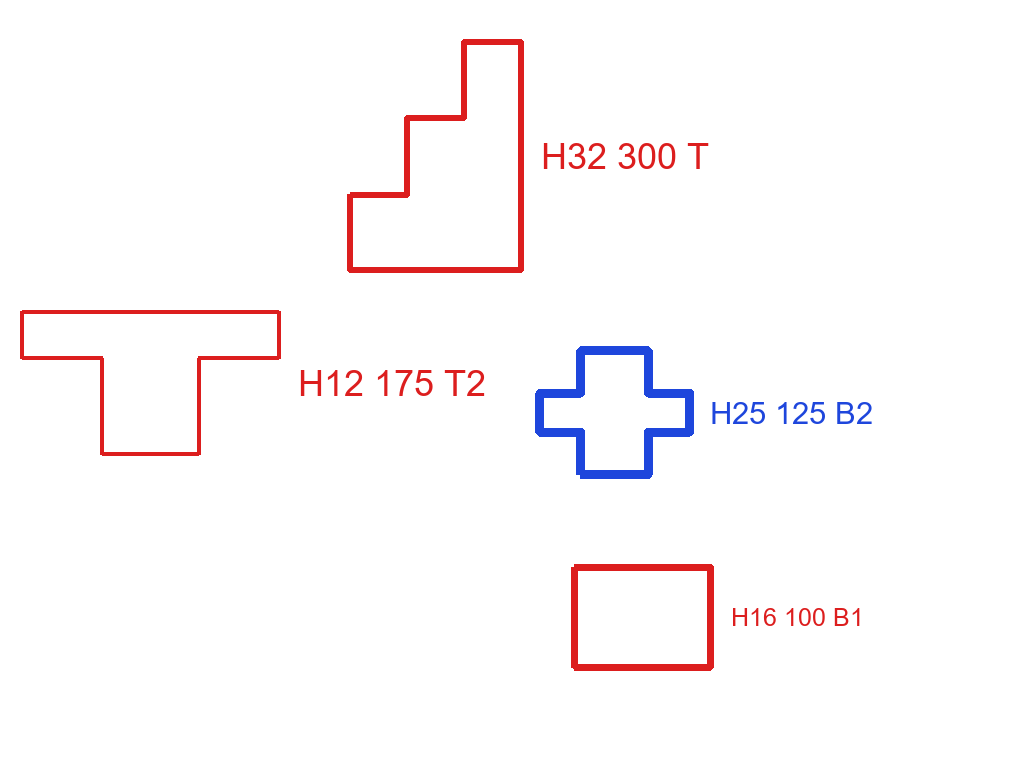shape: (346, 36, 526, 276), (18, 307, 282, 459), (533, 344, 696, 481), (569, 562, 716, 673)
text: (296, 368, 488, 398), (539, 141, 711, 171), (708, 400, 875, 426), (729, 606, 866, 628)
